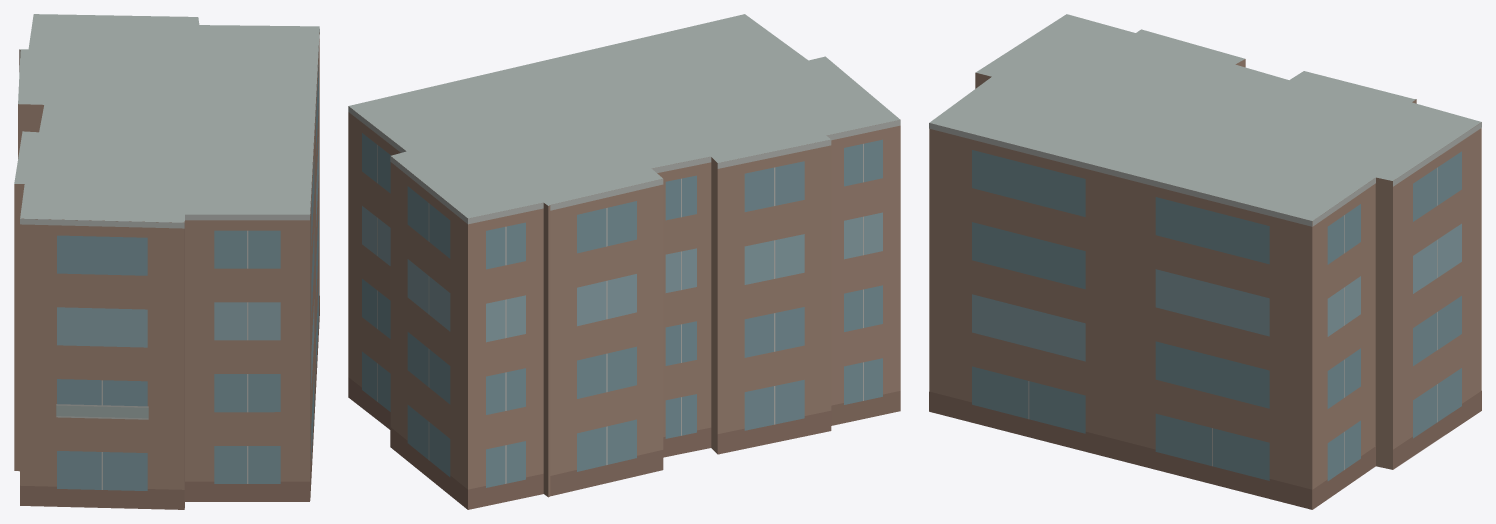
Rendered from survey-upis-32973555.glb.
3 views of the same model, side by side, from view 1: azimuth 30°, elevation 25°; view 2: azimuth 150°, elevation 25°; view 3: azimuth 270°, elevation 25° (orthographic).
Visible parts, largest first — view 1: survey-upis-32973555.tmp; view 2: survey-upis-32973555.tmp; view 3: survey-upis-32973555.tmp.
Part boxes in pixels (x1,y1,x2,y2): survey-upis-32973555.tmp: (14, 14, 319, 509); survey-upis-32973555.tmp: (348, 14, 900, 509); survey-upis-32973555.tmp: (929, 14, 1481, 509).
Bounding box in the file's own units: 18.69 × 12.15 × 21.08.
